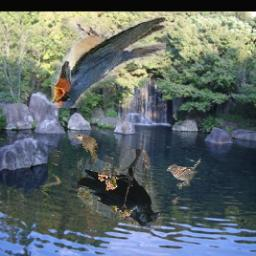Crow: (77, 150, 163, 229)
Cuckoo: (71, 135, 98, 164)
Sparrow: (167, 159, 202, 190)
Swallow: (51, 18, 166, 109)
